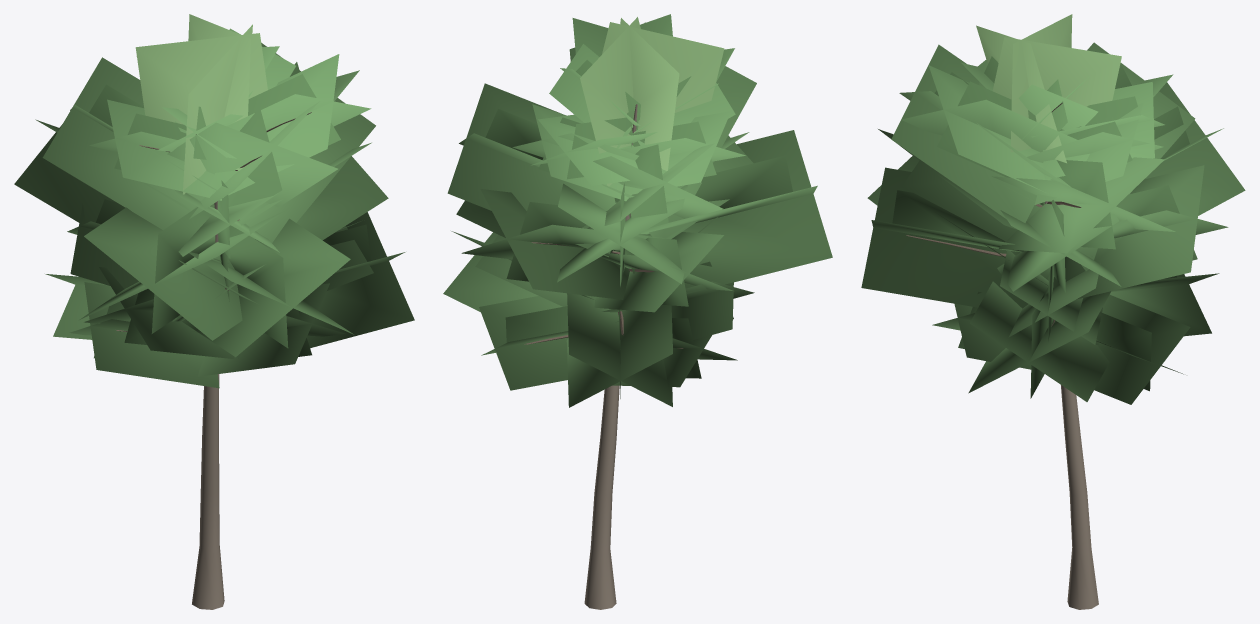
Rendered from tree_pine_a_lod0.glb.
The picture shows the model from 3 angles, left to right: view 1: azimuth 30°, elevation 25°; view 2: azimuth 150°, elevation 25°; view 3: azimuth 270°, elevation 25°; orthographic projection. The views are drawn at different scales.
Parts seen in each view (by area): view 1: tree_pine_a_lod0; view 2: tree_pine_a_lod0; view 3: tree_pine_a_lod0.
Boxes of the visible parts, x1,y1,x2,y2 form: tree_pine_a_lod0: (14, 14, 414, 609); tree_pine_a_lod0: (443, 14, 832, 609); tree_pine_a_lod0: (861, 14, 1245, 609).
Bounding box in the file's own units: 9.4 × 15.09 × 9.25.
